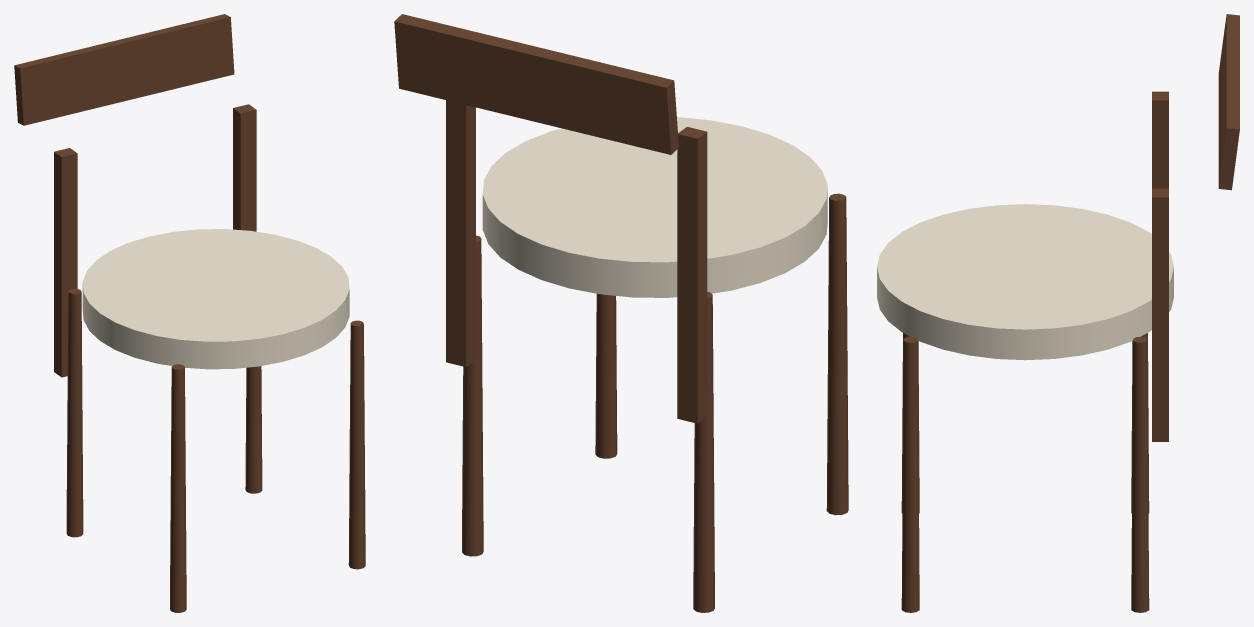
Rendered from bentwood_chair.glb.
3 renders of one model, left to right at view 1: azimuth 30°, elevation 25°; view 2: azimuth 150°, elevation 25°; view 3: azimuth 270°, elevation 25°, orthographic. The views are drawn at different scales.
Visible parts, largest first — view 1: bentwood_chair; view 2: bentwood_chair; view 3: bentwood_chair.
Boxes of the visible parts, box(x1,y1,x2,y2) form: bentwood_chair: box(14, 14, 365, 612); bentwood_chair: box(394, 14, 848, 612); bentwood_chair: box(877, 14, 1239, 612).
Size of the model in its own units: 0.44 by 0.8001 by 0.5378.
